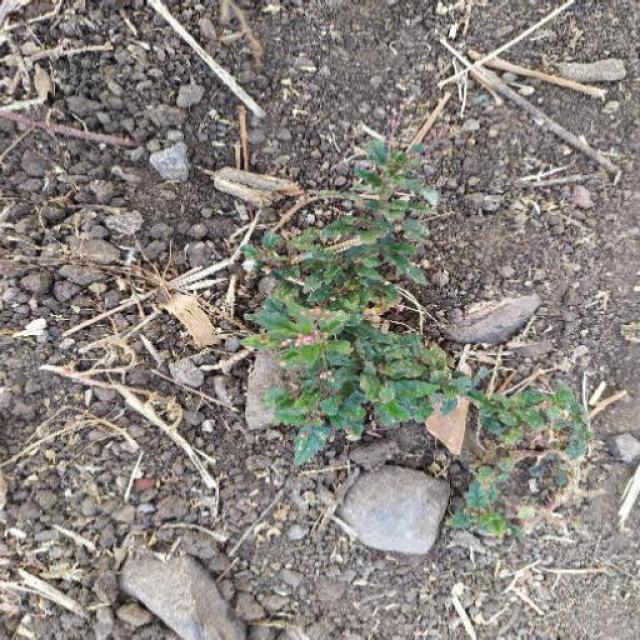weed: (244, 177, 555, 493)
